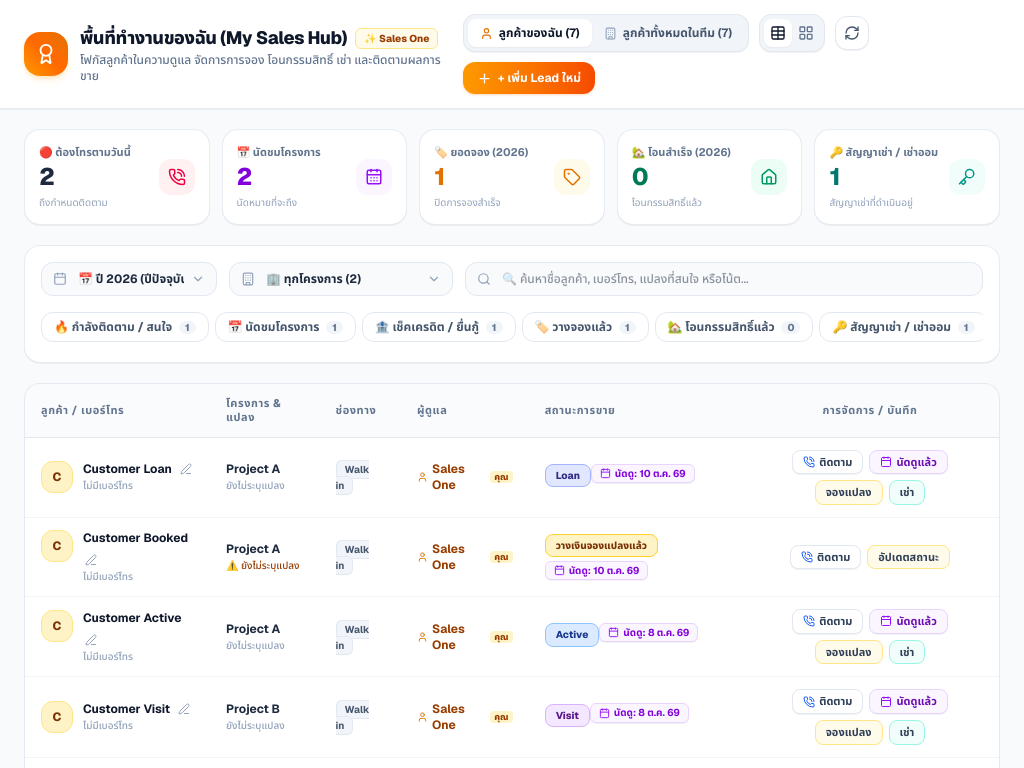
Test: Sales Hub actions › upcoming KPI uses dates even when customers are not in appointment stage
Check: the text "Customer Active" is shown, box [83, 610, 181, 626]
Click the button "📅 นัดชมโครงการ 2 นัดหมายที่จะถึง" at (314,177), box [222, 129, 407, 224]
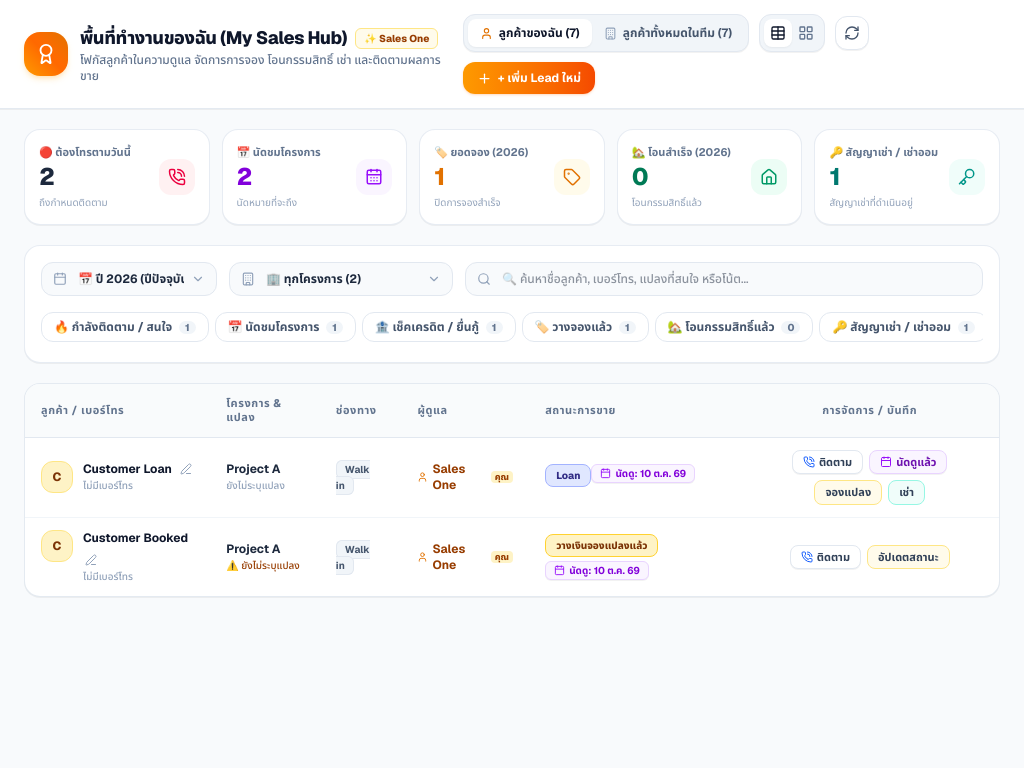
Check: the number of rows is 3, box [25, 384, 999, 437]; [25, 437, 999, 518]; [25, 518, 999, 596]
Check: the text "Customer Visit" is gone
